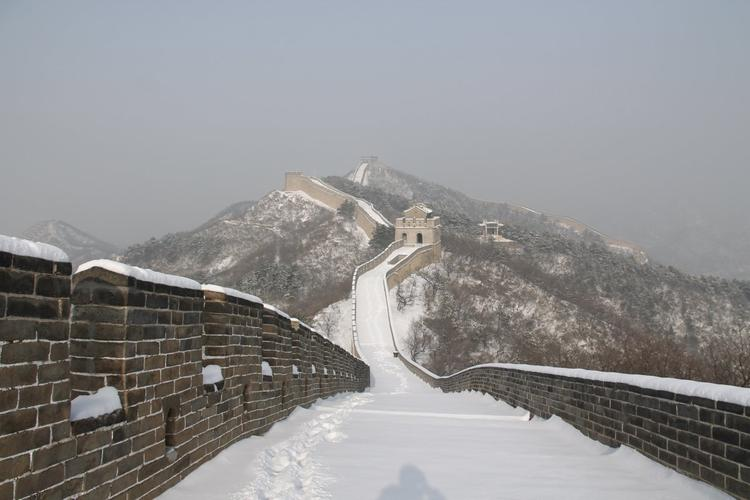buildings: (35, 265, 370, 477), (141, 183, 401, 331)
mountain: (344, 202, 750, 405), (143, 182, 397, 329)
